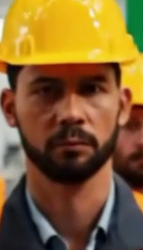Ali: (1, 3, 143, 232)
